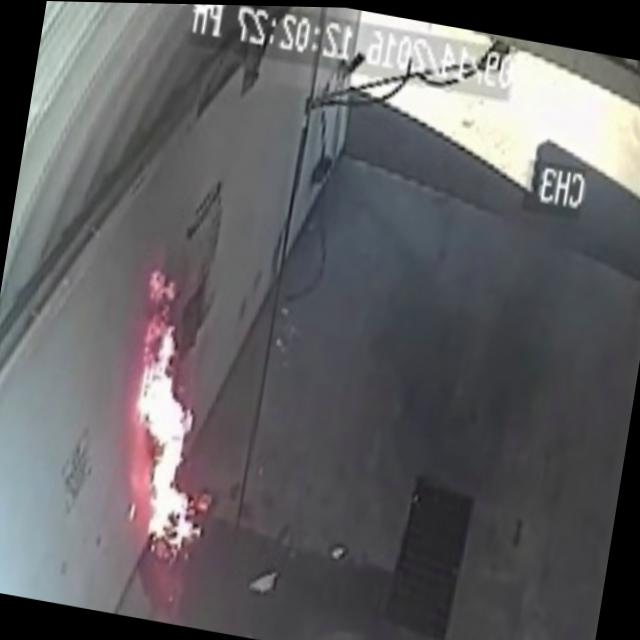fire: (114, 267, 230, 563)
